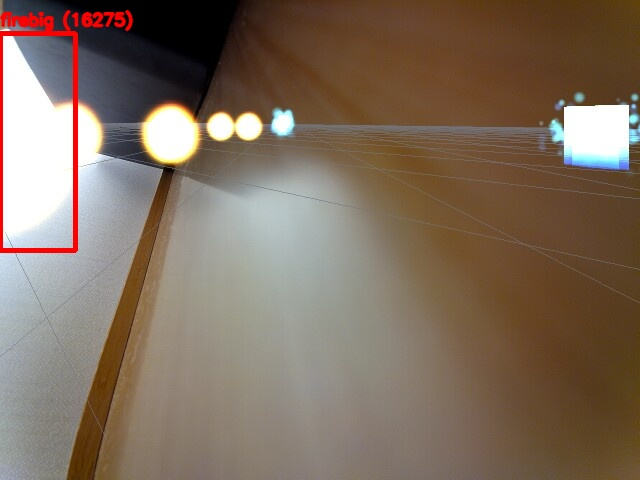firebig: (0, 33, 75, 250)
